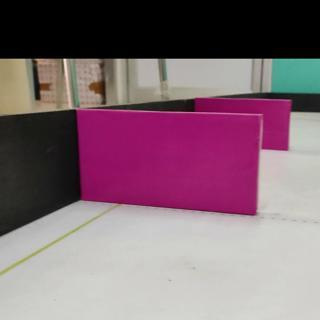xparking: (81, 109, 256, 217), (263, 97, 289, 150)
